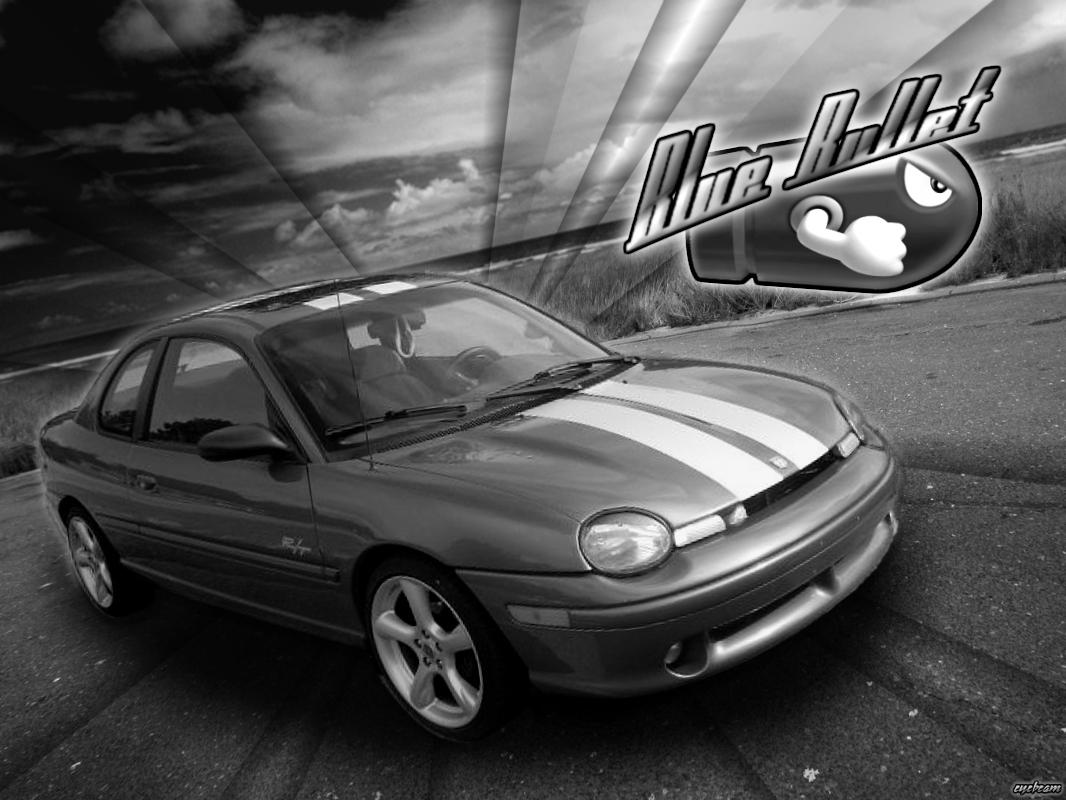car: (35, 271, 905, 757)
